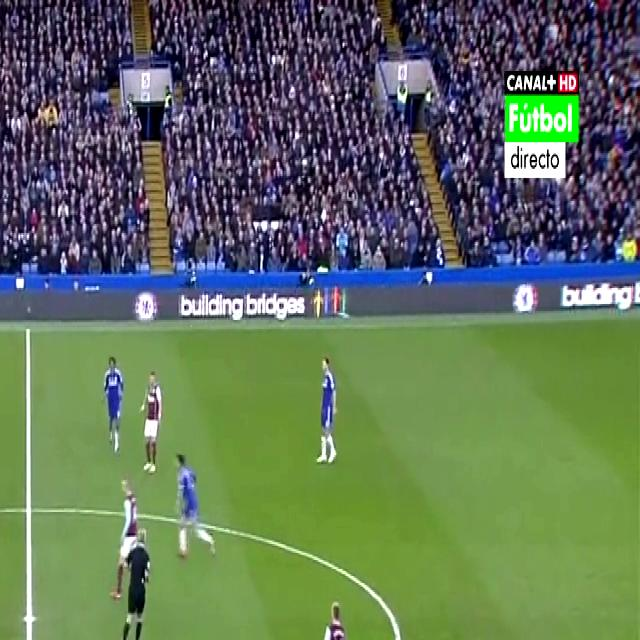referee: (113, 524, 157, 640)
soccer-player: (168, 442, 220, 573), (309, 348, 345, 468), (111, 472, 143, 605), (95, 342, 126, 458), (136, 361, 164, 480), (308, 583, 354, 640)
